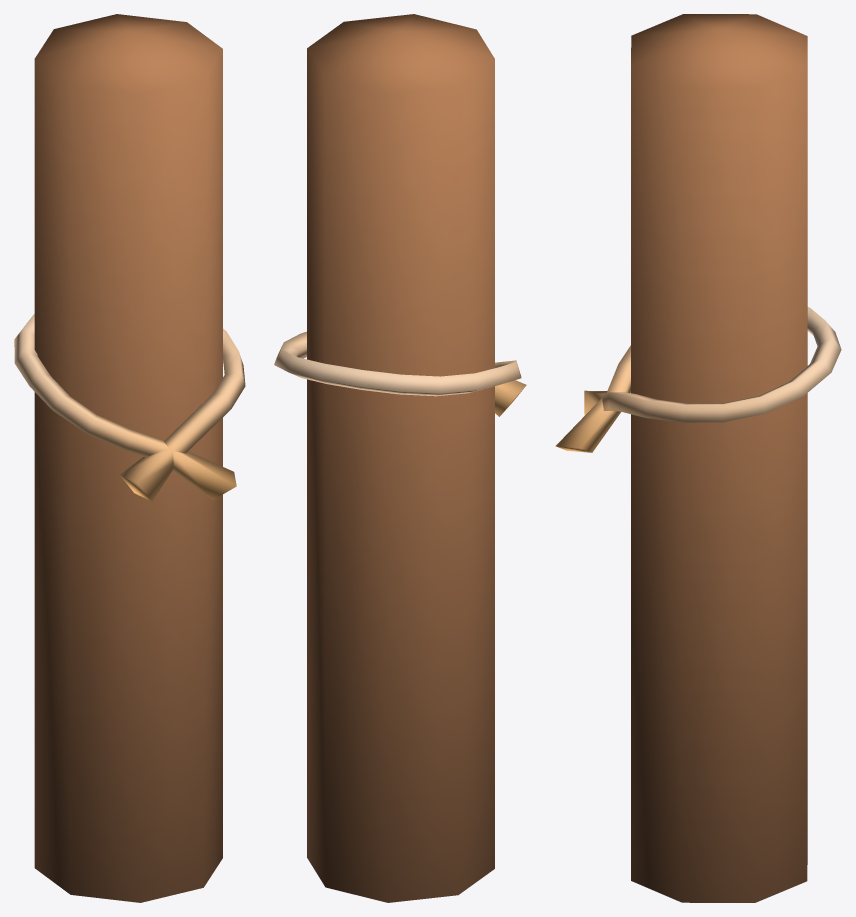
The model's file is paloPuertoSoga.fbx.
The picture shows the model from 3 angles, left to right: view 1: azimuth 30°, elevation 25°; view 2: azimuth 150°, elevation 25°; view 3: azimuth 270°, elevation 25°; orthographic projection.
Parts seen in each view (by area): view 1: paloPuertSoga; view 2: paloPuertSoga; view 3: paloPuertSoga.
Boxes of the visible parts, x1=… form: paloPuertSoga: x1=14, y1=14, x2=245, y2=902; paloPuertSoga: x1=274, y1=14, x2=526, y2=902; paloPuertSoga: x1=555, y1=14, x2=841, y2=902.
Bounding box in the file's own units: 22.06 × 85.25 × 26.45.
Materials: 1 (1 with a texture image).
